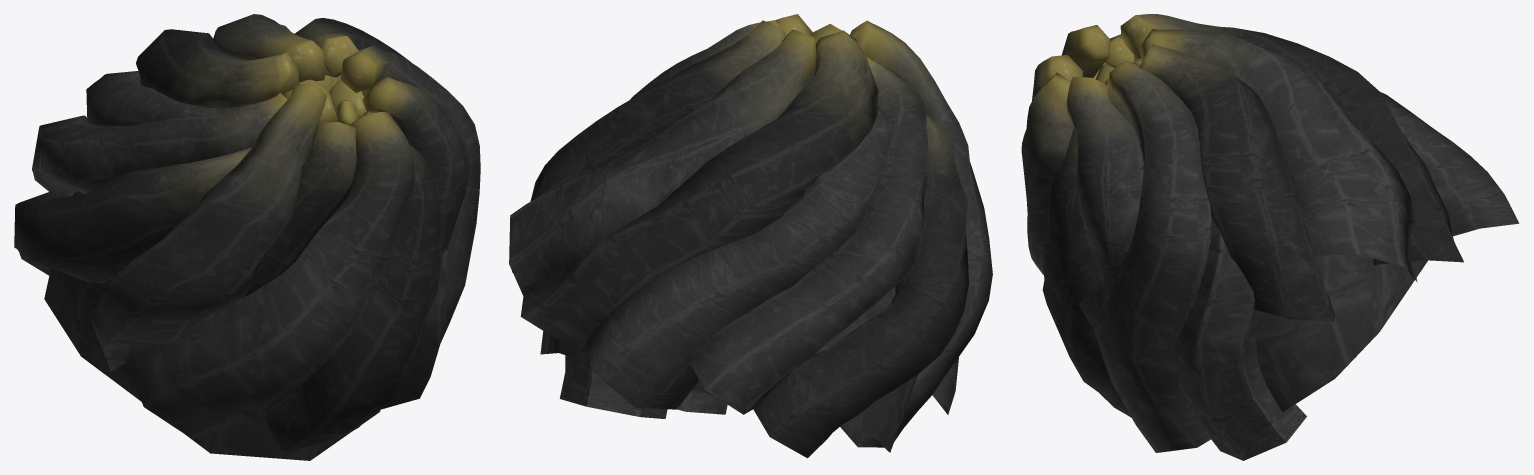
3 renders of one model, left to right at view 1: azimuth 30°, elevation 25°; view 2: azimuth 150°, elevation 25°; view 3: azimuth 270°, elevation 25°, orthographic. The views are drawn at different scales.
Visible parts, largest first — view 1: pCylinder113__VolcanoGasRockPillar_np, pCylinder114__VolcanoGasRockPillarDark_np, pCube122__VolcanoGasRockEnd_np, pCylinder114__VolcanoGasRockEndDark_np; view 2: pCylinder113__VolcanoGasRockPillar_np, pCylinder114__VolcanoGasRockPillarDark_np, pCube122__VolcanoGasRockEnd_np, pCylinder114__VolcanoGasRockEndDark_np; view 3: pCylinder113__VolcanoGasRockPillar_np, pCylinder114__VolcanoGasRockPillarDark_np, pCube122__VolcanoGasRockEnd_np, pCylinder114__VolcanoGasRockEndDark_np.
Boxes of the visible parts, x1,y1,x2,y2 form: pCylinder113__VolcanoGasRockPillar_np: (32, 14, 480, 460); pCylinder114__VolcanoGasRockPillarDark_np: (14, 18, 443, 454); pCube122__VolcanoGasRockEnd_np: (182, 14, 446, 238); pCylinder114__VolcanoGasRockEndDark_np: (122, 18, 434, 232); pCylinder113__VolcanoGasRockPillar_np: (509, 64, 992, 452); pCylinder114__VolcanoGasRockPillarDark_np: (512, 64, 968, 458); pCube122__VolcanoGasRockEnd_np: (677, 14, 967, 149); pCylinder114__VolcanoGasRockEndDark_np: (690, 20, 967, 200); pCylinder113__VolcanoGasRockPillar_np: (1021, 55, 1519, 460); pCylinder114__VolcanoGasRockPillarDark_np: (1042, 33, 1463, 417); pCube122__VolcanoGasRockEnd_np: (1022, 15, 1290, 167); pCylinder114__VolcanoGasRockEndDark_np: (1032, 14, 1264, 190).
Size of the model in its own units: 7.71 by 7.45 by 8.53.
Materials: 4 (4 with a texture image).
